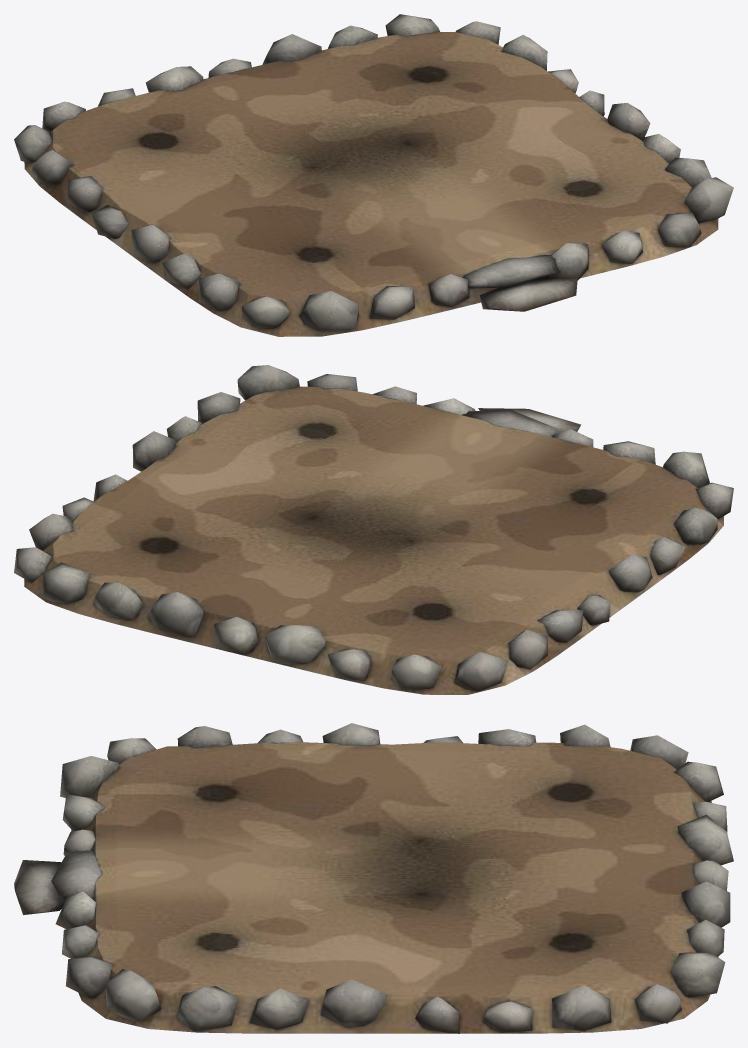
Rendered from temple_platform.gltf.
3 renders of one model, top to bottom at view 1: azimuth 30°, elevation 25°; view 2: azimuth 150°, elevation 25°; view 3: azimuth 270°, elevation 25°, orthographic. The views are drawn at different scales.
Parts seen in each view (by area): view 1: temple_platform; view 2: temple_platform; view 3: temple_platform.
Part boxes in pixels (x1,y1,x2,y2): temple_platform: (14,14,733,336); temple_platform: (14,365,733,694); temple_platform: (14,723,733,1033).
Bounding box in the file's own units: 3.18 × 0.2775 × 3.42.
2 materials, 2 textured.
